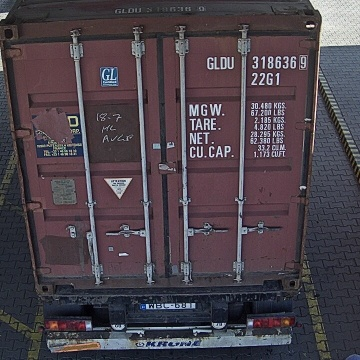serial_id: (207, 55, 307, 69)
